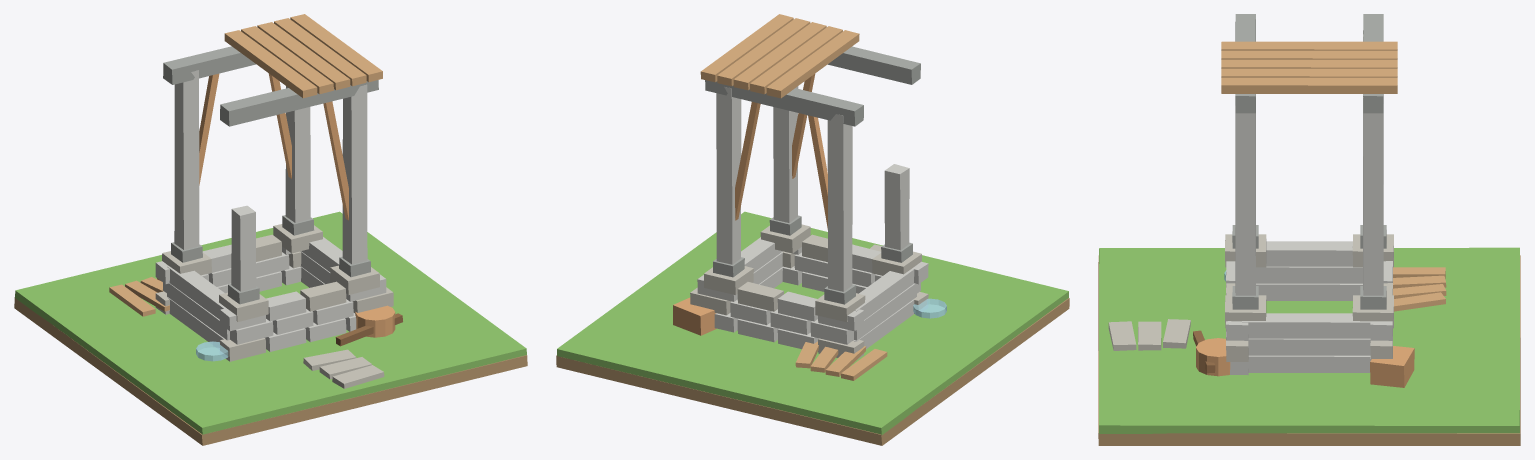
The model's file is tower_l04_damaged_LOD2.glb.
The picture shows the model from 3 angles, left to right: view 1: azimuth 30°, elevation 25°; view 2: azimuth 150°, elevation 25°; view 3: azimuth 270°, elevation 25°; orthographic projection. The views are drawn at different scales.
Parts seen in each view (by area): view 1: tower_l04_grass_tile_tower_l04_damaged_LOD2_tmp, tower_l04_earth_tile_tower_l04_damaged_LOD2_tmp, post_-0.61_0.54_tower_l04_damaged_LOD2_tmp, post_0.61_-0.54_tower_l04_damaged_LOD2_tmp, deck_bearer_-0.54_tower_l04_damaged_LOD2_tmp, post_0.61_0.54_tower_l04_damaged_LOD2_tmp, post_-0.61_-0.54_tower_l04_damaged_LOD2_tmp, deck_bearer_0.54_tower_l04_damaged_LOD2_tmp, deck_board_4_tower_l04_damaged_LOD2_tmp, deck_board_6_tower_l04_damaged_LOD2_tmp, deck_board_8_tower_l04_damaged_LOD2_tmp, deck_board_5_tower_l04_damaged_LOD2_tmp (+33 smaller); view 2: tower_l04_grass_tile_tower_l04_damaged_LOD2_tmp, tower_l04_earth_tile_tower_l04_damaged_LOD2_tmp, post_-0.61_0.54_tower_l04_damaged_LOD2_tmp, post_0.61_0.54_tower_l04_damaged_LOD2_tmp, deck_bearer_0.54_tower_l04_damaged_LOD2_tmp, post_0.61_-0.54_tower_l04_damaged_LOD2_tmp, post_-0.61_-0.54_tower_l04_damaged_LOD2_tmp, deck_bearer_-0.54_tower_l04_damaged_LOD2_tmp, deck_board_4_tower_l04_damaged_LOD2_tmp, deck_board_8_tower_l04_damaged_LOD2_tmp, deck_board_6_tower_l04_damaged_LOD2_tmp, deck_board_7_tower_l04_damaged_LOD2_tmp (+28 smaller); view 3: tower_l04_grass_tile_tower_l04_damaged_LOD2_tmp, tower_l04_earth_tile_tower_l04_damaged_LOD2_tmp, post_0.61_0.54_tower_l04_damaged_LOD2_tmp, post_0.61_-0.54_tower_l04_damaged_LOD2_tmp, deck_board_8_tower_l04_damaged_LOD2_tmp, stone_return_2_0.72_tower_l04_damaged_LOD2_tmp, stone_return_2_-0.72_tower_l04_damaged_LOD2_tmp, stone_return_1_0.72_tower_l04_damaged_LOD2_tmp, stone_return_0_0.72_tower_l04_damaged_LOD2_tmp, stone_return_1_-0.72_tower_l04_damaged_LOD2_tmp, stone_return_0_-0.72_tower_l04_damaged_LOD2_tmp, deck_board_4_tower_l04_damaged_LOD2_tmp (+24 smaller).
Boxes of the visible parts, x1,y1,x2,y2 form: tower_l04_grass_tile_tower_l04_damaged_LOD2_tmp: [15, 211, 526, 434]; tower_l04_earth_tile_tower_l04_damaged_LOD2_tmp: [14, 297, 527, 445]; post_-0.61_0.54_tower_l04_damaged_LOD2_tmp: [174, 70, 199, 249]; post_0.61_-0.54_tower_l04_damaged_LOD2_tmp: [342, 84, 367, 264]; deck_bearer_-0.54_tower_l04_damaged_LOD2_tmp: [220, 80, 378, 126]; post_0.61_0.54_tower_l04_damaged_LOD2_tmp: [285, 86, 310, 222]; post_-0.61_-0.54_tower_l04_damaged_LOD2_tmp: [231, 205, 256, 291]; deck_bearer_0.54_tower_l04_damaged_LOD2_tmp: [163, 46, 255, 84]; deck_board_4_tower_l04_damaged_LOD2_tmp: [224, 30, 317, 98]; deck_board_6_tower_l04_damaged_LOD2_tmp: [257, 22, 350, 90]; deck_board_8_tower_l04_damaged_LOD2_tmp: [290, 14, 382, 82]; deck_board_5_tower_l04_damaged_LOD2_tmp: [241, 26, 333, 94]; tower_l04_grass_tile_tower_l04_damaged_LOD2_tmp: [557, 211, 1068, 434]; tower_l04_earth_tile_tower_l04_damaged_LOD2_tmp: [556, 298, 1069, 445]; post_-0.61_0.54_tower_l04_damaged_LOD2_tmp: [827, 114, 852, 291]; post_0.61_0.54_tower_l04_damaged_LOD2_tmp: [716, 86, 741, 264]; deck_bearer_0.54_tower_l04_damaged_LOD2_tmp: [705, 80, 863, 126]; post_0.61_-0.54_tower_l04_damaged_LOD2_tmp: [773, 86, 798, 222]; post_-0.61_-0.54_tower_l04_damaged_LOD2_tmp: [884, 164, 909, 250]; deck_bearer_-0.54_tower_l04_damaged_LOD2_tmp: [828, 46, 920, 84]; deck_board_4_tower_l04_damaged_LOD2_tmp: [766, 30, 859, 98]; deck_board_8_tower_l04_damaged_LOD2_tmp: [700, 14, 793, 82]; deck_board_6_tower_l04_damaged_LOD2_tmp: [733, 22, 826, 90]; deck_board_7_tower_l04_damaged_LOD2_tmp: [717, 18, 810, 86]; tower_l04_grass_tile_tower_l04_damaged_LOD2_tmp: [1099, 247, 1519, 433]; tower_l04_earth_tile_tower_l04_damaged_LOD2_tmp: [1098, 255, 1520, 445]; post_0.61_0.54_tower_l04_damaged_LOD2_tmp: [1363, 97, 1383, 295]; post_0.61_-0.54_tower_l04_damaged_LOD2_tmp: [1235, 94, 1255, 295]; deck_board_8_tower_l04_damaged_LOD2_tmp: [1221, 77, 1397, 93]; stone_return_2_0.72_tower_l04_damaged_LOD2_tmp: [1242, 313, 1370, 338]; stone_return_2_-0.72_tower_l04_damaged_LOD2_tmp: [1266, 241, 1352, 266]; stone_return_1_0.72_tower_l04_damaged_LOD2_tmp: [1248, 338, 1370, 355]; stone_return_0_0.72_tower_l04_damaged_LOD2_tmp: [1248, 355, 1370, 372]; stone_return_1_-0.72_tower_l04_damaged_LOD2_tmp: [1256, 266, 1362, 283]; stone_return_0_-0.72_tower_l04_damaged_LOD2_tmp: [1256, 283, 1362, 300]; deck_board_4_tower_l04_damaged_LOD2_tmp: [1221, 41, 1397, 50].
Size of the model in its own units: 3.57 by 2.91 by 3.57.
